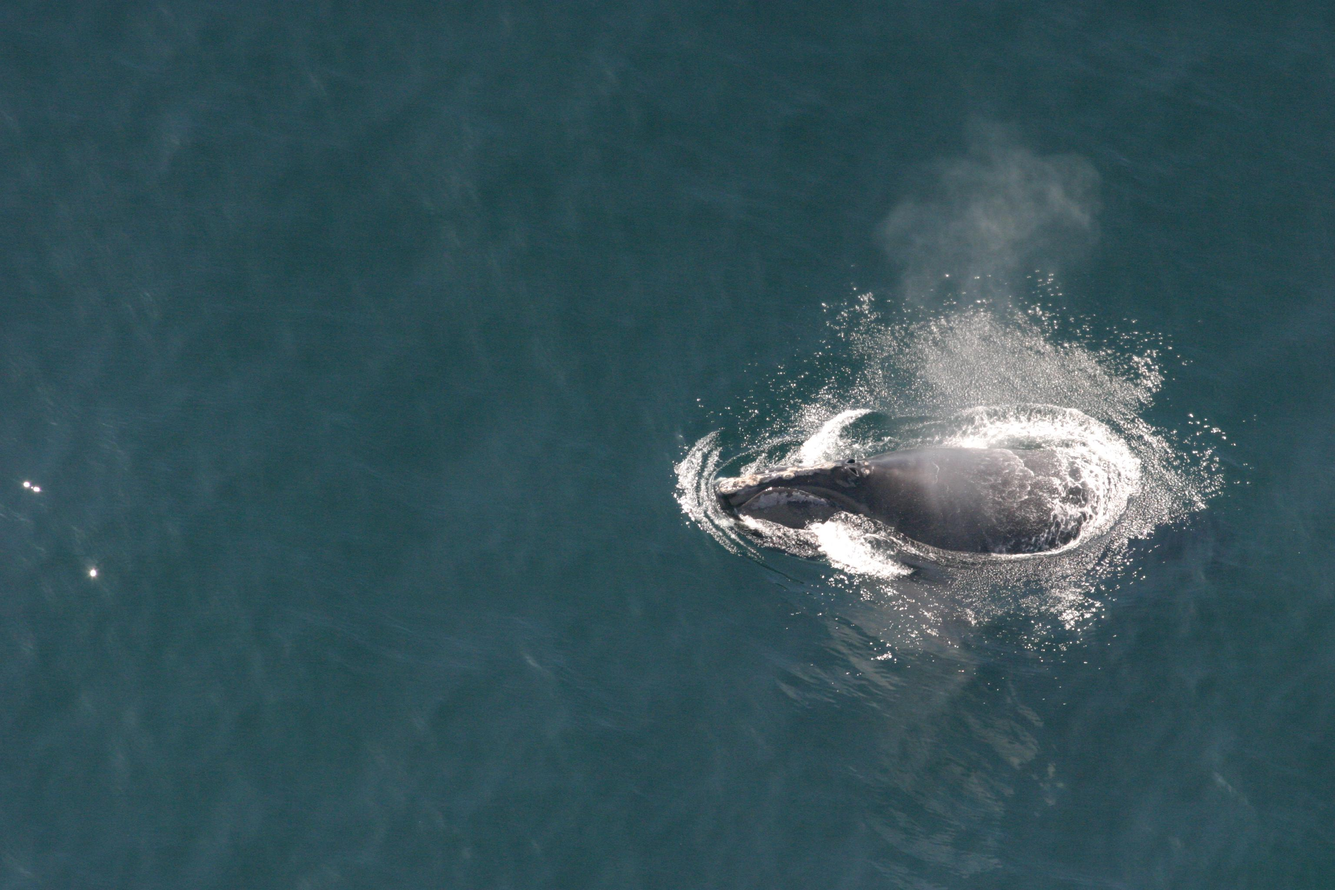whale: (704, 389, 1215, 603)
